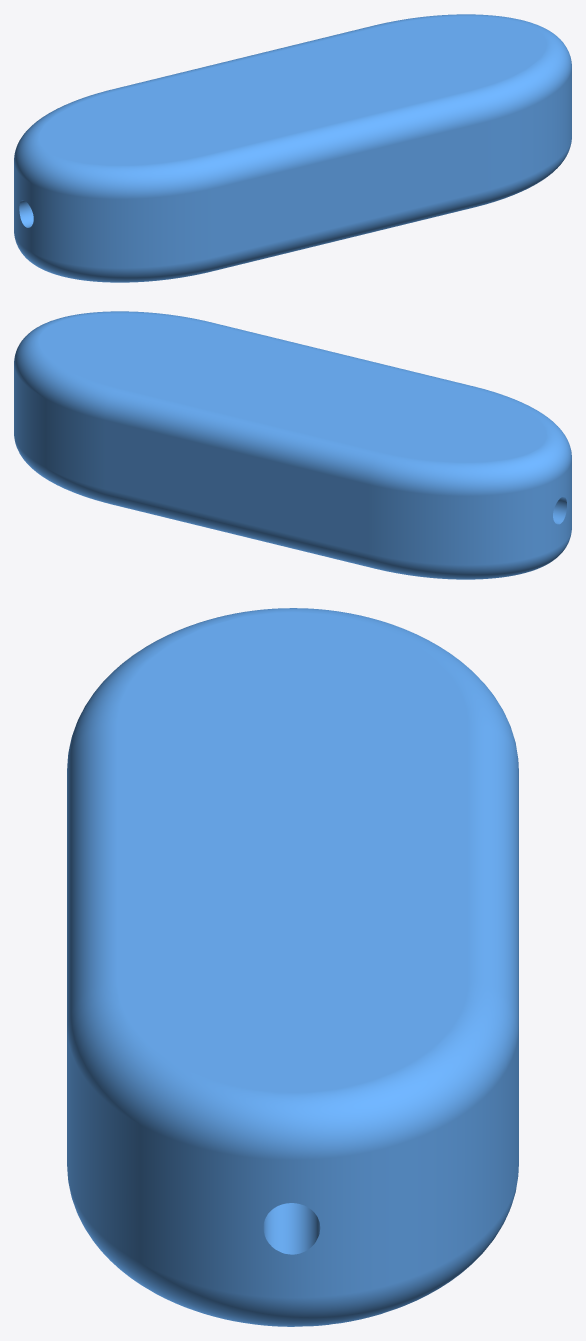
File: blauw pil.glb
3 renders of one model, top to bottom at view 1: azimuth 30°, elevation 25°; view 2: azimuth 150°, elevation 25°; view 3: azimuth 270°, elevation 25°, orthographic. The views are drawn at different scales.
Bounding box in the file's own units: 0.087 × 0.0178 × 0.0318.
